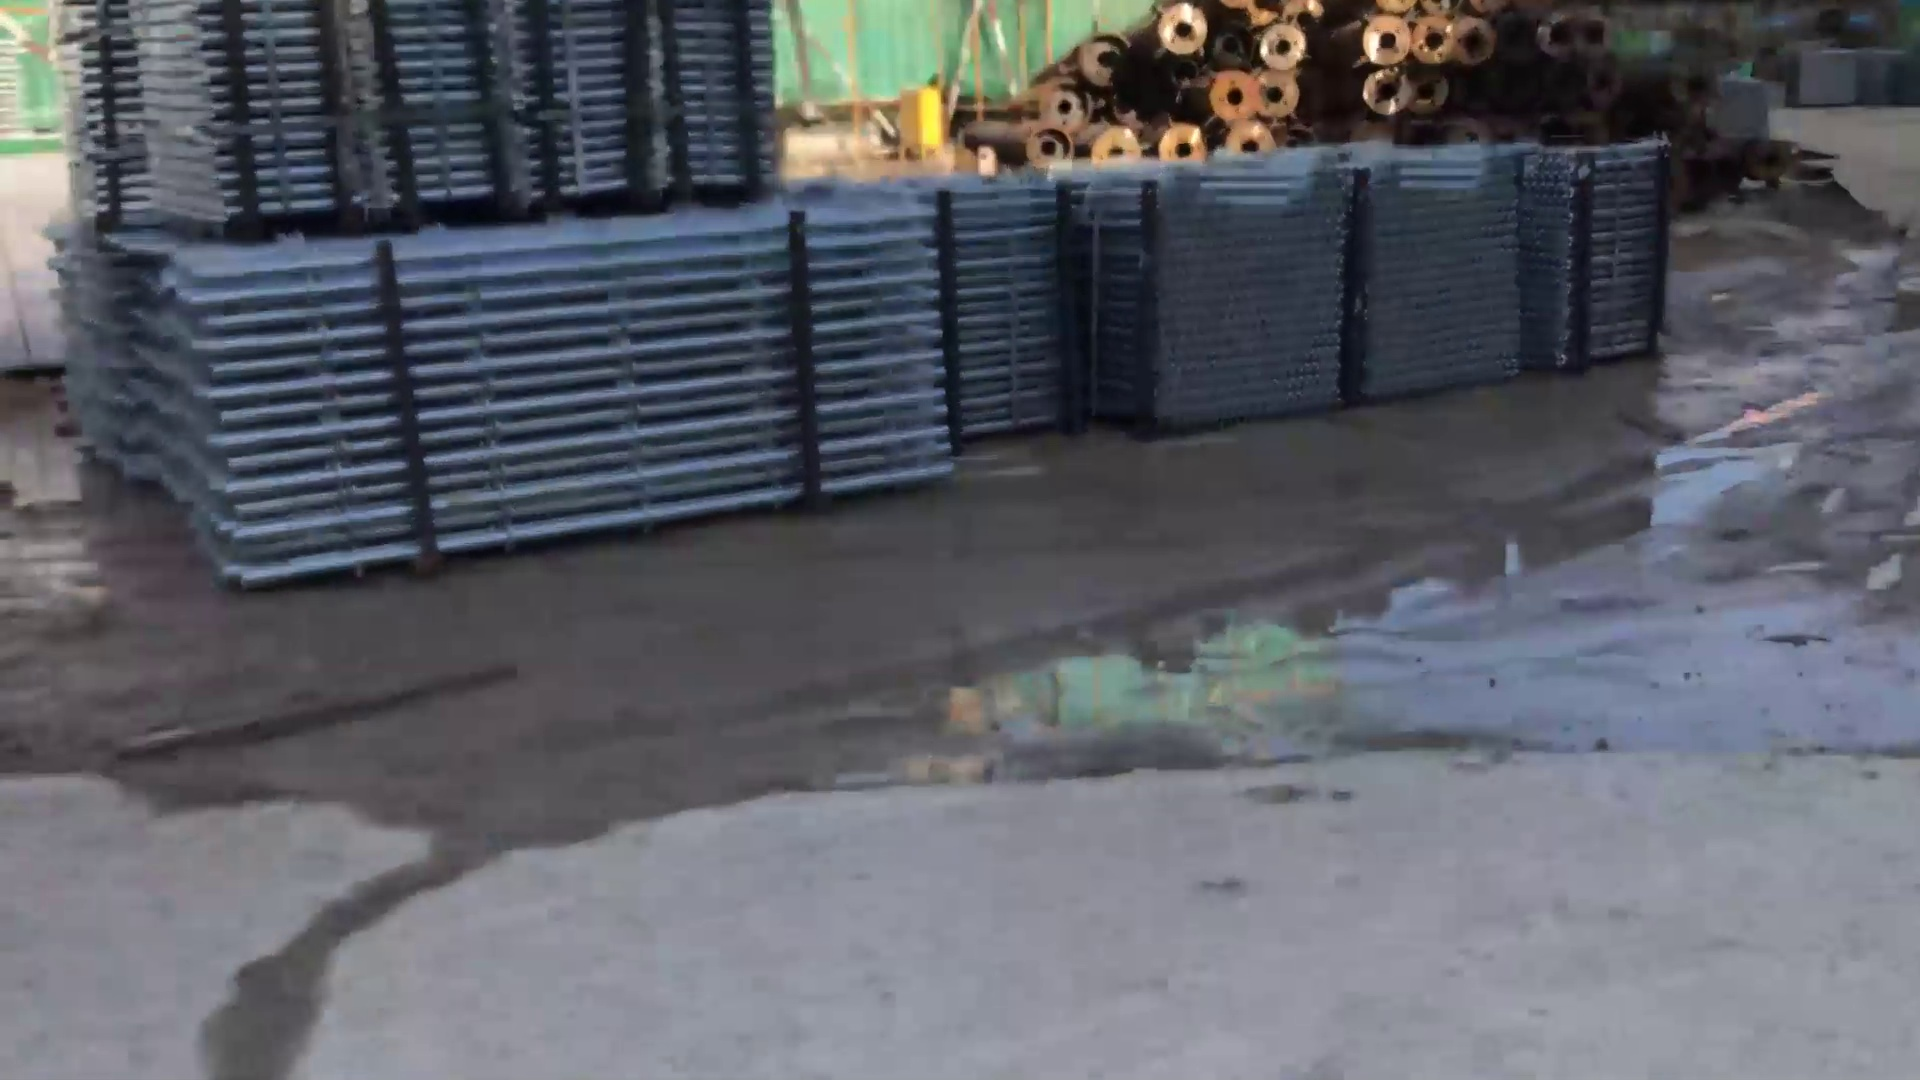ebox: (872, 82, 971, 150)
scaffold: (102, 174, 967, 509), (86, 3, 766, 229), (1040, 145, 1660, 392)
